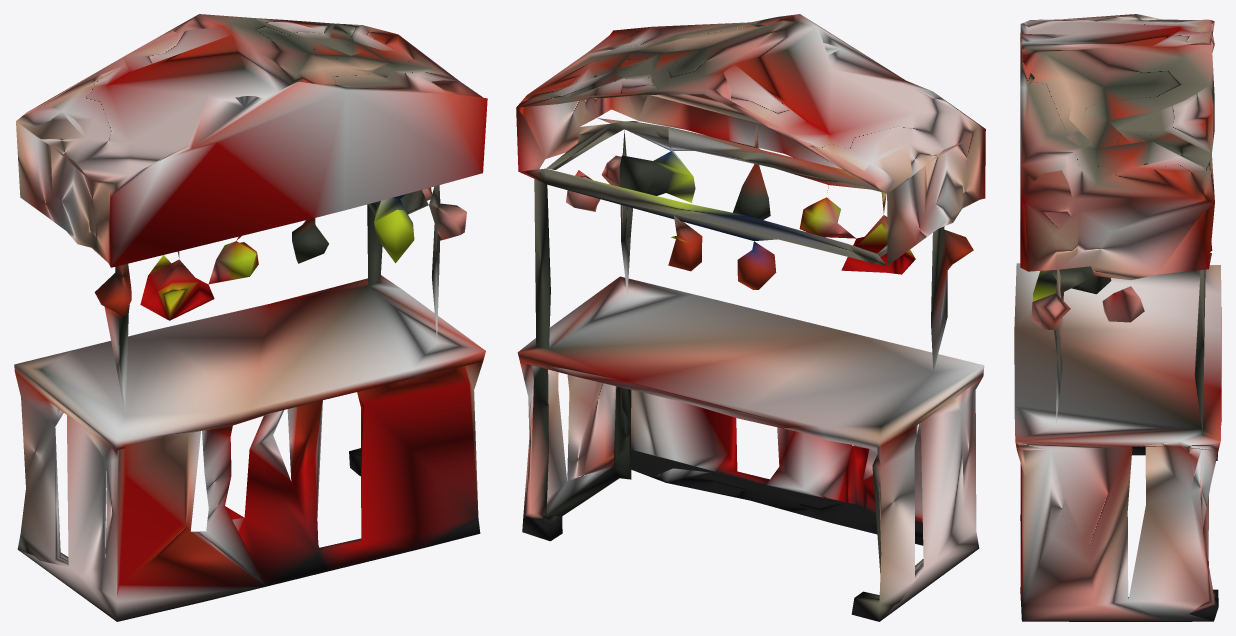
The model's file is gen3d-carnival-booth-lod1.glb.
3 renders of one model, left to right at view 1: azimuth 30°, elevation 25°; view 2: azimuth 150°, elevation 25°; view 3: azimuth 270°, elevation 25°, orthographic.
Parts seen in each view (by area): view 1: part_0; view 2: part_0; view 3: part_0.
Boxes of the visible parts, x1,y1,x2,y2 form: part_0: [14, 14, 487, 621]; part_0: [516, 14, 985, 621]; part_0: [1014, 14, 1221, 621].
Size of the model in its own units: 0.7964 by 0.9972 by 0.3822.
